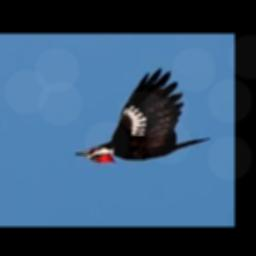Woodpecker: (77, 69, 210, 163)
